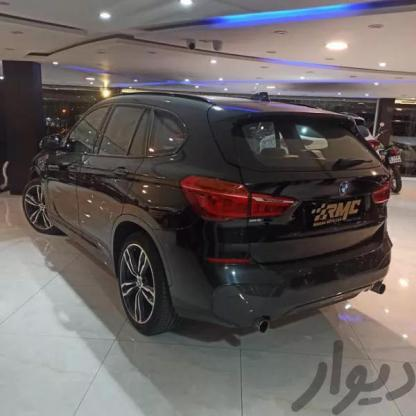Car: (19, 89, 382, 369), (256, 112, 386, 170), (381, 109, 416, 172)
